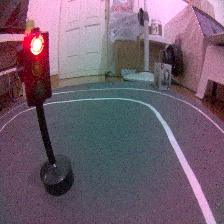red: (14, 26, 82, 199)
